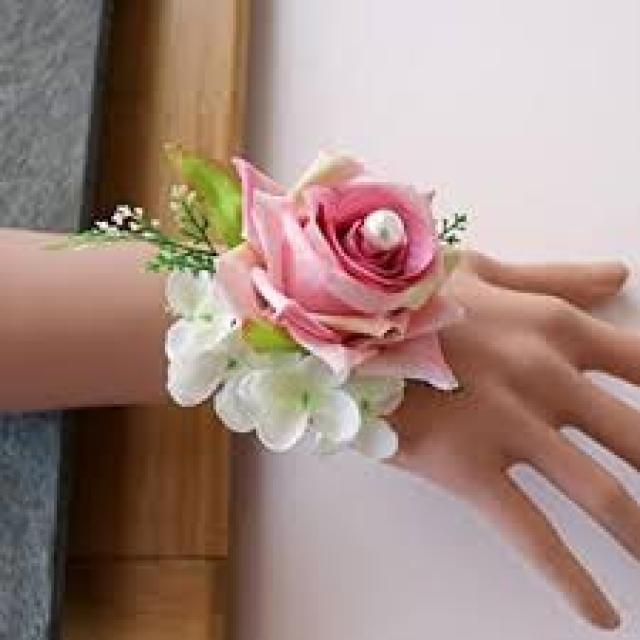rose: (221, 144, 494, 389)
